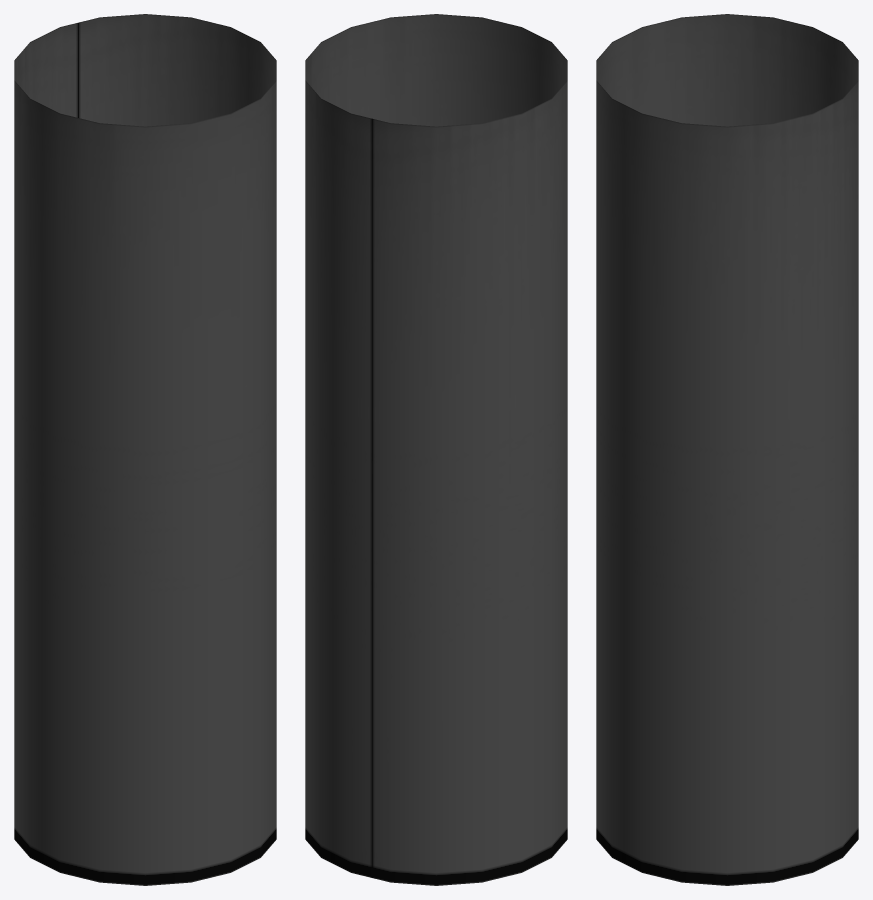
Rendered from yuanzhuguang_001.FBX.
The picture shows the model from 3 angles, left to right: view 1: azimuth 30°, elevation 25°; view 2: azimuth 150°, elevation 25°; view 3: azimuth 270°, elevation 25°; orthographic projection.
Visible parts, largest first — view 1: Cylinder001; view 2: Cylinder001; view 3: Cylinder001.
Part boxes in pixels (box(x1,y1,x2,y2)): Cylinder001: box(14, 14, 276, 885); Cylinder001: box(305, 14, 567, 885); Cylinder001: box(596, 14, 858, 885).
Bounding box in the file's own units: 3.23 × 10.14 × 3.18.
Materials: 1 (1 with a texture image).
